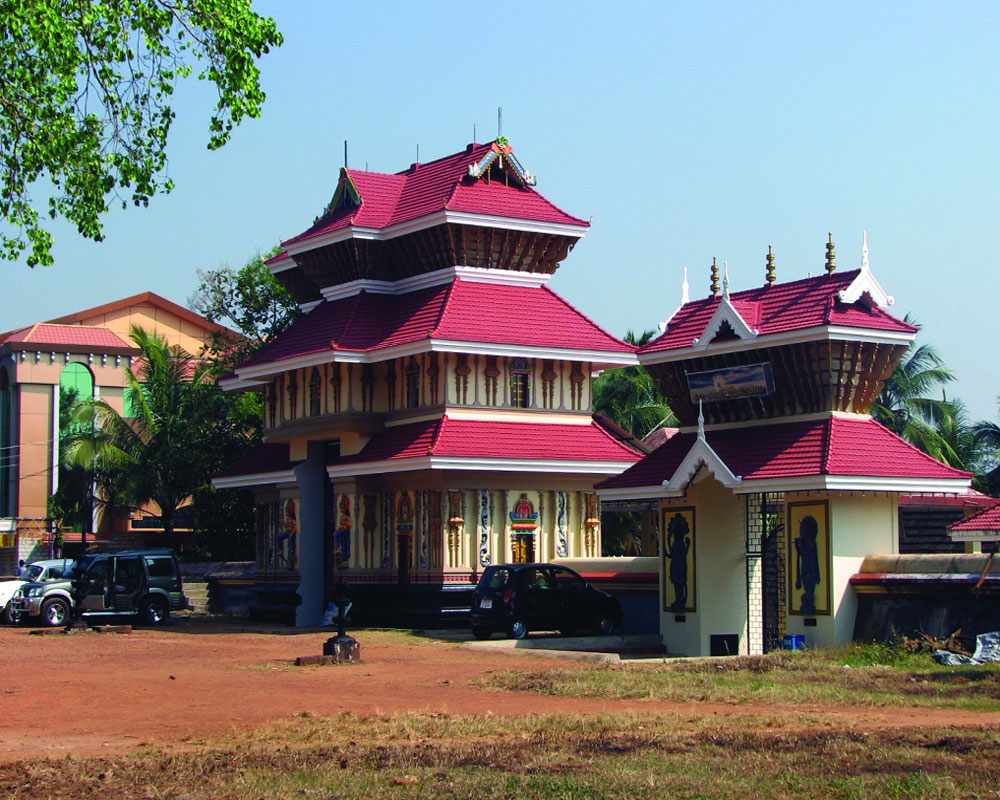Temple: (198, 132, 651, 608), (626, 260, 966, 647)
